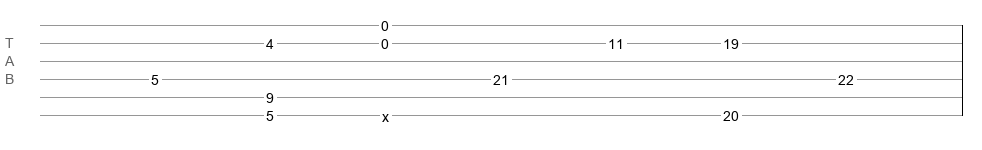0: (381, 18, 389, 28), (381, 36, 389, 46)
11: (608, 36, 624, 46)
19: (723, 36, 739, 46)
20: (723, 108, 739, 118)
21: (493, 72, 509, 82)
22: (838, 72, 854, 82)
4: (266, 36, 274, 46)
5: (151, 72, 159, 82), (266, 108, 274, 118)
9: (266, 90, 274, 100)
x: (382, 109, 389, 117)
